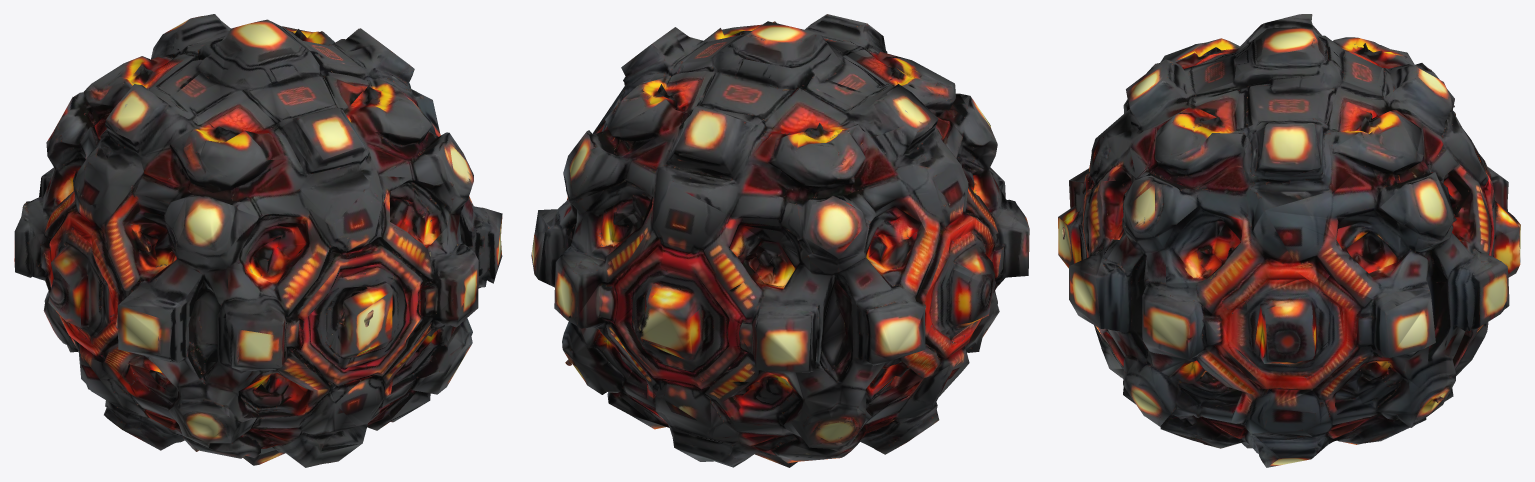
Rendered from reactor-core.glb.
3 views of the same model, side by side, from view 1: azimuth 30°, elevation 25°; view 2: azimuth 150°, elevation 25°; view 3: azimuth 270°, elevation 25° (orthographic). The views are drawn at different scales.
Bounding box in the file's own units: 2 × 1.96 × 1.99.
Materials: 1 (1 with a texture image).
